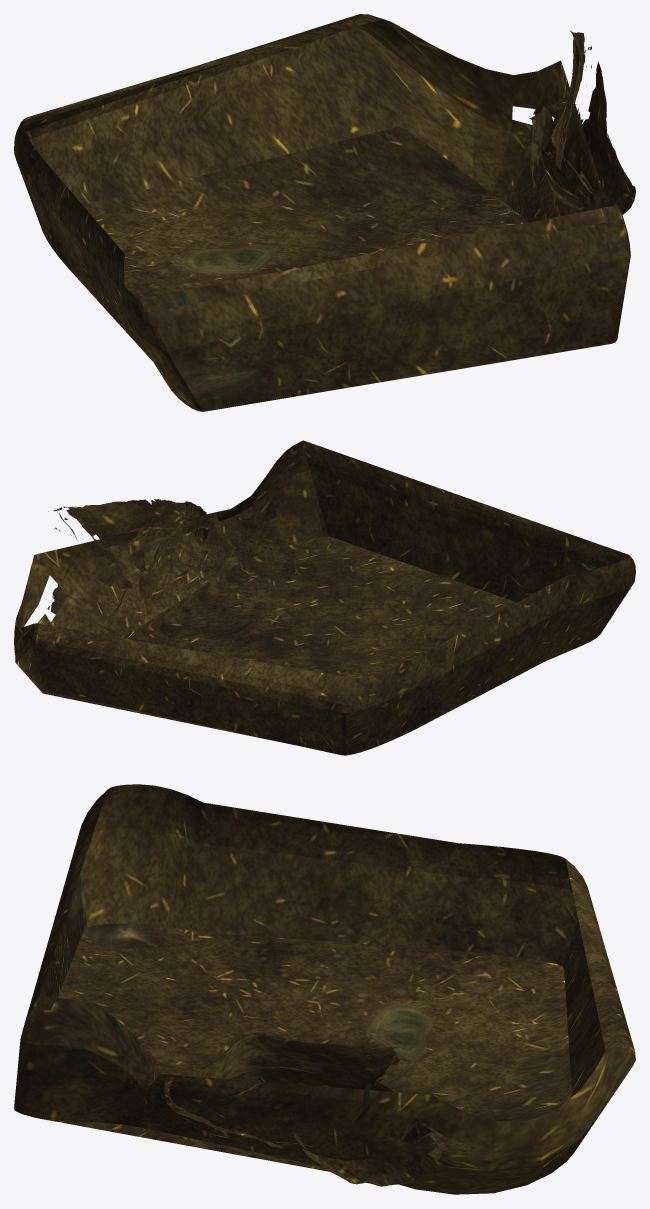
File: GrassTerrain_011_Mud_v3.glb
The picture shows the model from 3 angles, top to bottom: view 1: azimuth 30°, elevation 25°; view 2: azimuth 150°, elevation 25°; view 3: azimuth 270°, elevation 25°; orthographic projection. The views are drawn at different scales.
Parts seen in each view (by area): view 1: 立方体.011_Mud; view 2: 立方体.011_Mud; view 3: 立方体.011_Mud.
Part boxes in pixels (x1,y1,x2,y2): 立方体.011_Mud: (14,14,635,411); 立方体.011_Mud: (14,440,635,755); 立方体.011_Mud: (14,784,635,1194).
Bounding box in the file's own units: 422 × 117 × 384.
Materials: 1 (1 with a texture image).
